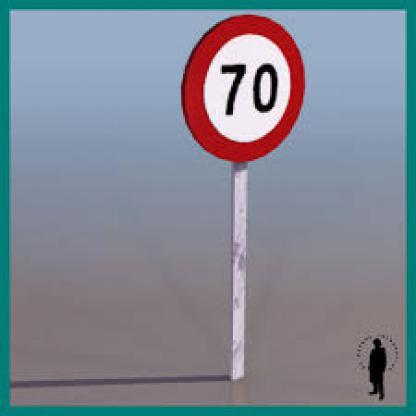Speed Limit 70: (186, 17, 305, 160)
